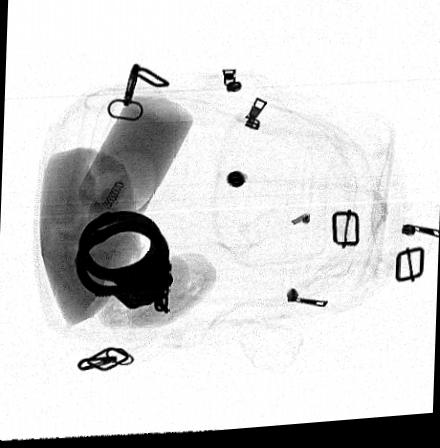HandCuffs: (75, 212, 174, 315)
